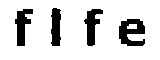e: (112, 14, 149, 52)
f: (80, 7, 109, 51), (13, 5, 35, 51)
l: (45, 5, 65, 54)
